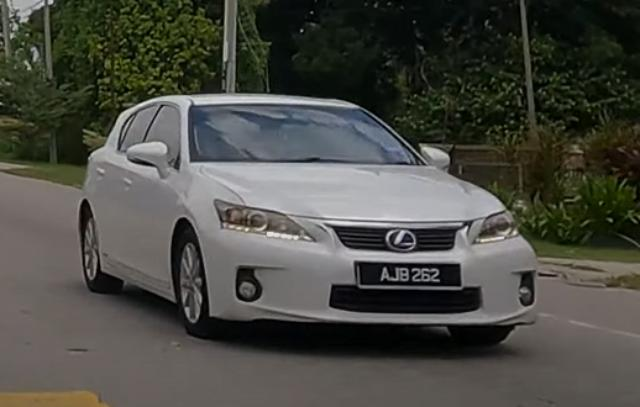License_Plate: (354, 259, 463, 291)
car: (77, 93, 540, 347)
